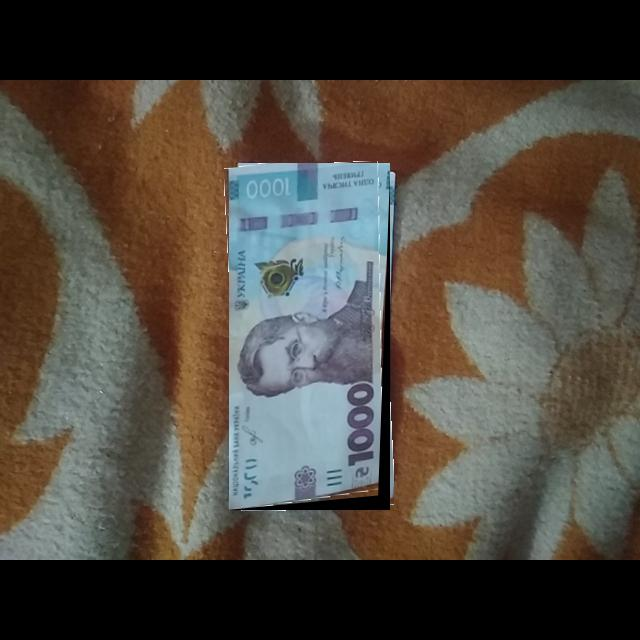1000uah: (229, 163, 391, 511)
